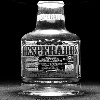beer: (14, 1, 82, 100)
